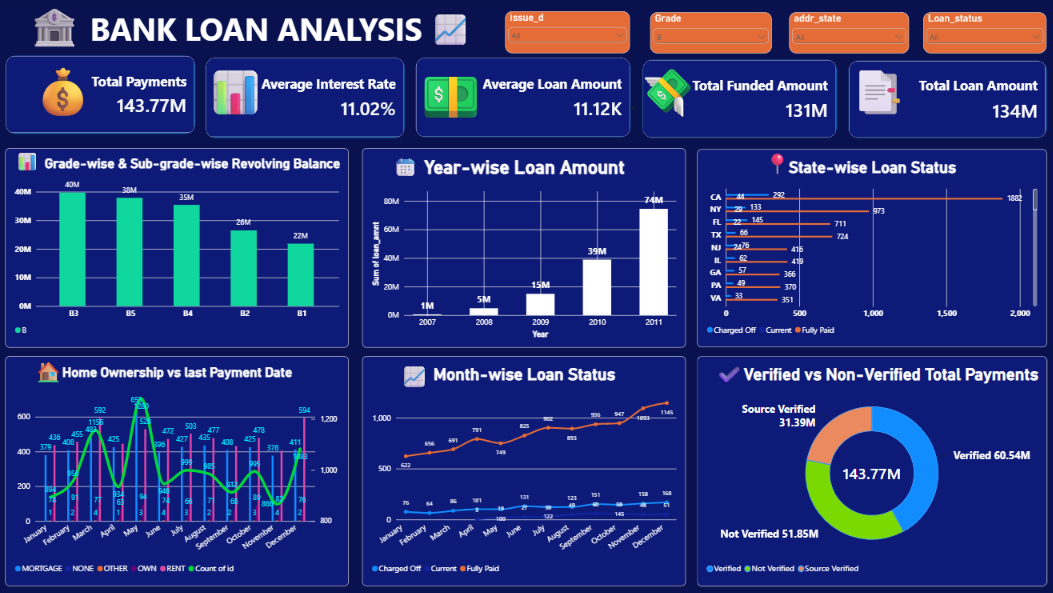

What the dashboard file says about the page in this screenshot:
{"tool":"powerbi","page":{"name":"BLA DASHBOARD","canvas":[1920,1080],"ordinal":0},"visuals":[{"type":"textbox","box":[10,290,280,280],"z":0},{"type":"textbox","box":[149.6,15.3,629,91.6],"z":1000},{"type":"cardVisual","fields":{"Data":["finance_1_clean.Total Loan Amount"]},"box":[1536.1,109.7,359.7,141.7],"z":2000},{"type":"cardVisual","fields":{"Data":["finance_1_clean.Total Funded Amount"]},"box":[1163.9,108.3,352.8,143.1],"z":3000},{"type":"cardVisual","fields":{"Data":["finance_1_clean.Average Loan Amount"]},"box":[752.8,105.6,390.3,145.8],"z":4000},{"type":"cardVisual","fields":{"Data":["finance_1_clean.Average Interest Rate"]},"box":[373.5,104.1,361.2,146.9],"z":5000},{"type":"cardVisual","fields":{"Data":["finance_2_clean.Total Payments"]},"box":[10.2,102,344.9,142.9],"z":6000},{"type":"clusteredColumnChart","title":"Year-wise Loan Amount","fields":{"Category":["finance_1_clean.issue_d.Variation.Date Hierarchy.Year"],"Y":["Sum(finance_1_clean.loan_amnt)"]},"box":[657.1,269.4,585.7,360.7],"z":7000},{"type":"clusteredColumnChart","title":"Grade-wise & Sub-grade-wise Revolving Balance","fields":{"Category":["finance_1_clean.sub_grade"],"Series":["finance_1_clean.grade"],"Y":["Sum(finance_2_clean.revol_bal)"]},"box":[10.2,269.4,621.4,360.7],"z":8000},{"type":"donutChart","title":"Verified vs Non-Verified Total Payments ","fields":{"Category":["finance_1_clean.verification_status"],"Y":["Sum(finance_2_clean.total_pymnt)"]},"box":[1263.3,646.9,632.7,416.3],"z":9000},{"type":"clusteredBarChart","title":"State-wise Loan Status","fields":{"Category":["finance_1_clean.addr_state"],"Series":["finance_1_clean.loan_status"],"Y":["CountNonNull(finance_1_clean.id)"]},"box":[1263,271.9,632.8,358.4],"z":10000},{"type":"lineChart","title":"Month-wise Loan Status","fields":{"Category":["finance_1_clean.issue_d.Variation.Date Hierarchy.Month"],"Series":["finance_1_clean.loan_status"],"Y":["CountNonNull(finance_1_clean.id)"]},"box":[657.1,646.9,585.7,416.1],"z":11000},{"type":"lineClusteredColumnComboChart","title":"Home Ownership vs last Payment Date","fields":{"Category":["finance_2_clean.last_pymnt_d.Variation.Date Hierarchy.Month"],"Series":["finance_1_clean.home_ownership"],"Y":["CountNonNull(finance_1_clean.id)"],"Y2":["CountNonNull(finance_1_clean.id)"]},"box":[10.2,646.9,621.4,416.1],"z":12000},{"type":"textbox","box":[9.2,0,140.5,100.8],"z":13000},{"type":"textbox","box":[778.6,15.3,79.4,134.4],"z":14000},{"type":"textbox","box":[54.2,102.8,111.1,138.9],"z":15000},{"type":"textbox","box":[373.6,109.7,115.3,136.1],"z":16000},{"type":"textbox","box":[751.4,97.2,133.3,144.4],"z":17000},{"type":"textbox","box":[1143.1,105.6,144.4,125],"z":18000},{"type":"textbox","box":[1536.1,109.7,97.2,131.9],"z":19000},{"type":"textbox","box":[1382.5,270,42.5,65],"z":20000},{"type":"textbox","box":[1382.5,271.2,71.2,300],"z":20001},{"type":"textbox","box":[63.8,647.5,336.2,68.8],"z":20002},{"type":"textbox","box":[713.8,280,76.2,128.8],"z":20003},{"type":"textbox","box":[28.8,271.2,56.2,128.8],"z":20004},{"type":"textbox","box":[726.2,657.5,52.5,197.5],"z":20005},{"type":"textbox","box":[1295,647.5,78.8,68.8],"z":20006},{"type":"slicer","fields":{"Values":["finance_1_clean.issue_d"]},"box":[916.2,22.3,226,76.3],"z":20007},{"type":"slicer","fields":{"Values":["finance_1_clean.grade"]},"box":[1178,24,220,74],"z":20008},{"type":"slicer","fields":{"Values":["finance_1_clean.addr_state"]},"box":[1429,24,217,74],"z":20009},{"type":"slicer","fields":{"Values":["finance_1_clean.loan_status"]},"box":[1673,24,223,74],"z":20010}]}

Visuals, with their boxes in screenshot pixels (x1, y1, x2, y2), scaled from the page's 1920x1080 canvas onto the 1053x593 screenshot:
textbox: detection(5, 159, 159, 313)
textbox: detection(82, 8, 427, 59)
cardVisual - finance_1_clean.Total Loan Amount: detection(842, 60, 1040, 138)
cardVisual - finance_1_clean.Total Funded Amount: detection(638, 59, 832, 138)
cardVisual - finance_1_clean.Average Loan Amount: detection(413, 58, 627, 138)
cardVisual - finance_1_clean.Average Interest Rate: detection(205, 57, 403, 138)
cardVisual - finance_2_clean.Total Payments: detection(6, 56, 195, 134)
"Year-wise Loan Amount" clusteredColumnChart: detection(360, 148, 682, 346)
"Grade-wise & Sub-grade-wise Revolving Balance" clusteredColumnChart: detection(6, 148, 346, 346)
"Verified vs Non-Verified Total Payments " donutChart: detection(693, 355, 1040, 584)
"State-wise Loan Status" clusteredBarChart: detection(693, 149, 1040, 346)
"Month-wise Loan Status" lineChart: detection(360, 355, 682, 584)
"Home Ownership vs last Payment Date" lineClusteredColumnComboChart: detection(6, 355, 346, 584)
textbox: detection(5, 0, 82, 55)
textbox: detection(427, 8, 471, 82)
textbox: detection(30, 56, 91, 133)
textbox: detection(205, 60, 268, 135)
textbox: detection(412, 53, 485, 133)
textbox: detection(627, 58, 706, 127)
textbox: detection(842, 60, 896, 133)
textbox: detection(758, 148, 782, 184)
textbox: detection(758, 149, 797, 314)
textbox: detection(35, 356, 219, 393)
textbox: detection(391, 154, 433, 224)
textbox: detection(16, 149, 47, 220)
textbox: detection(398, 361, 427, 469)
textbox: detection(710, 356, 753, 393)
slicer - finance_1_clean.issue_d: detection(502, 12, 626, 54)
slicer - finance_1_clean.grade: detection(646, 13, 767, 54)
slicer - finance_1_clean.addr_state: detection(784, 13, 903, 54)
slicer - finance_1_clean.loan_status: detection(918, 13, 1040, 54)
